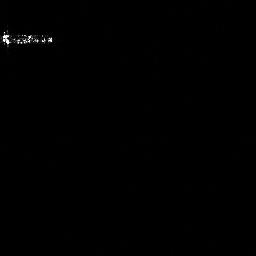ship: (1, 29, 53, 46)
